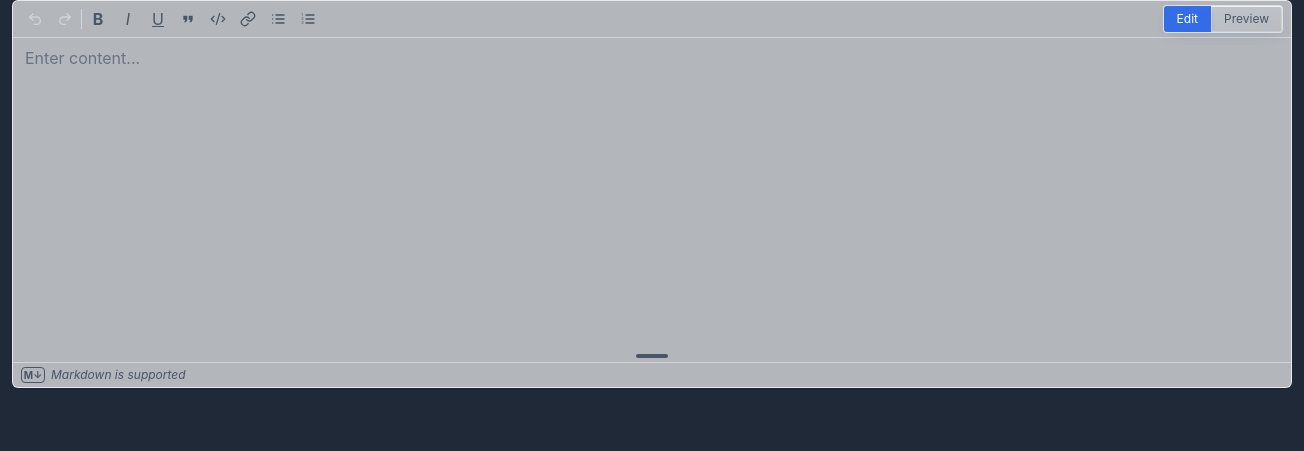
MarkdownEditorField › word link suggestions › surfaces multiple missed suggestions in sequence on blur, with progress
Type "`apple` `banana` " into the text box at x=652, y=194, box [13,38,1291,350]
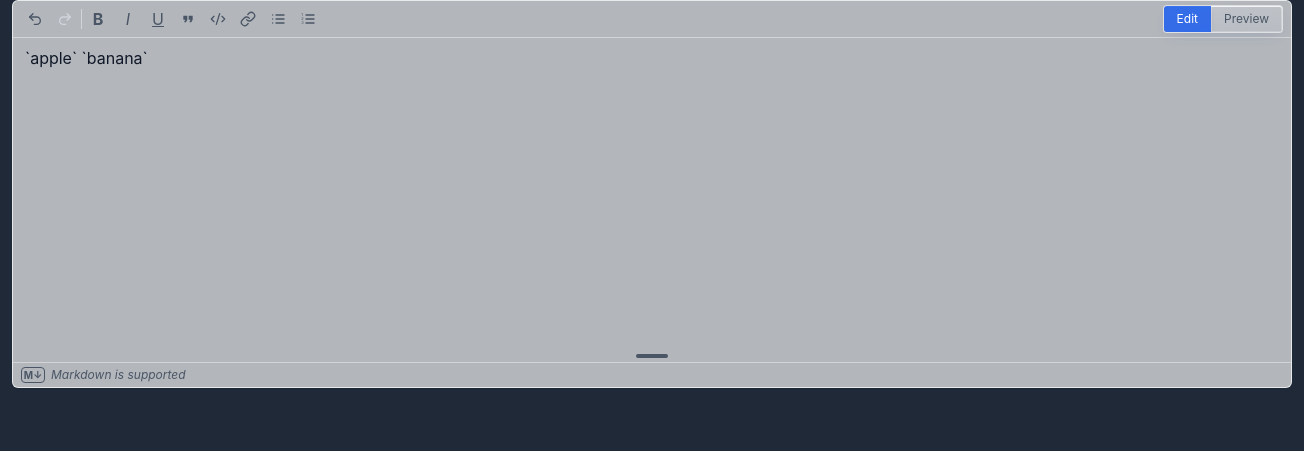
Check: the button "Add link" is not shown
Leave the text box
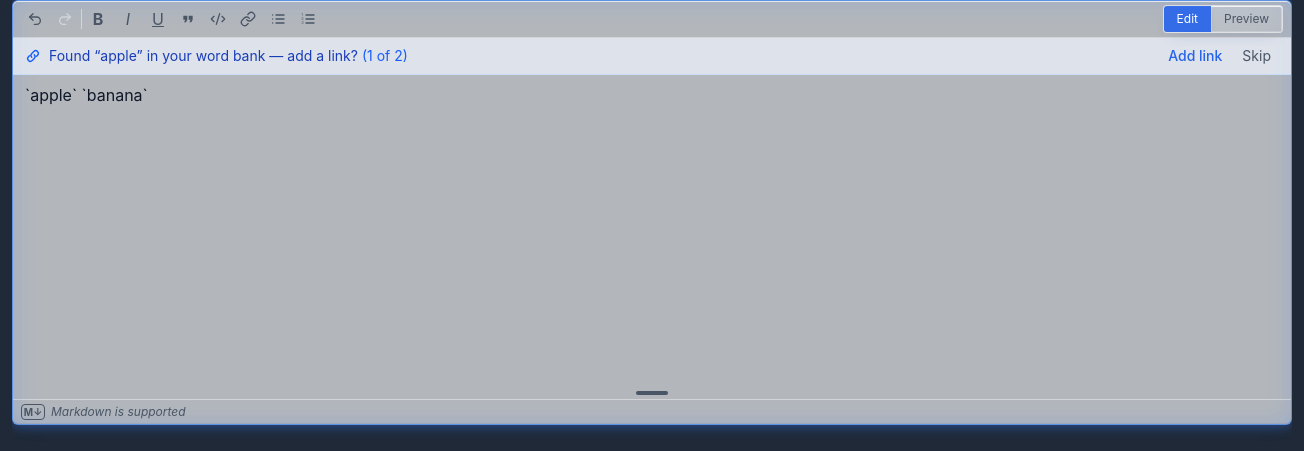
Check: the text "(1 of 2)" is shown, box [362,47,408,64]
Click the button "Add link" at x=1195, y=56, box [1160,44,1230,68]
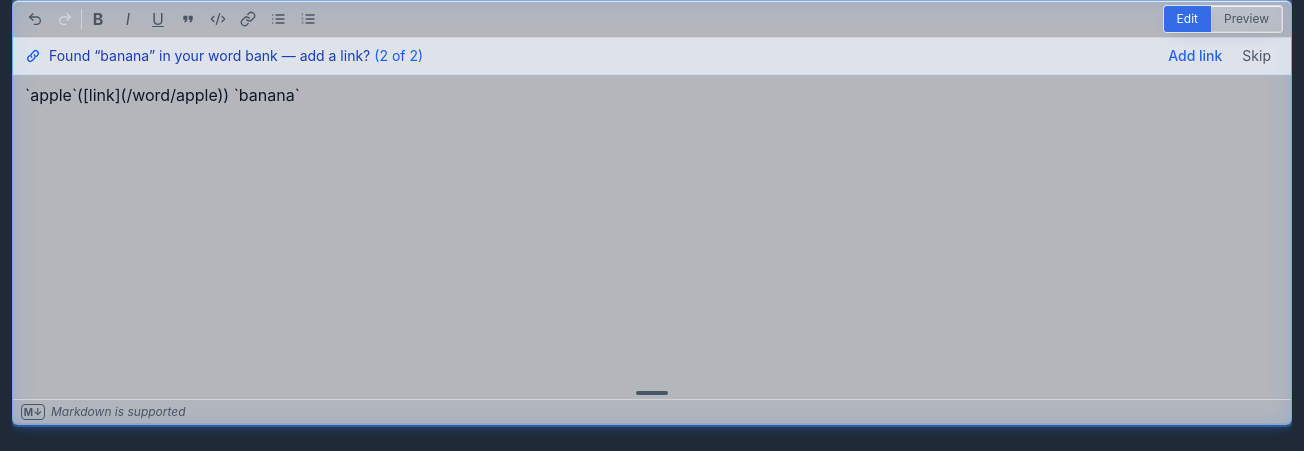
Check: the text "(2 of 2)" is shown, box [374,47,423,64]
Click the button "Add link" at x=1195, y=56, box [1160,44,1230,68]
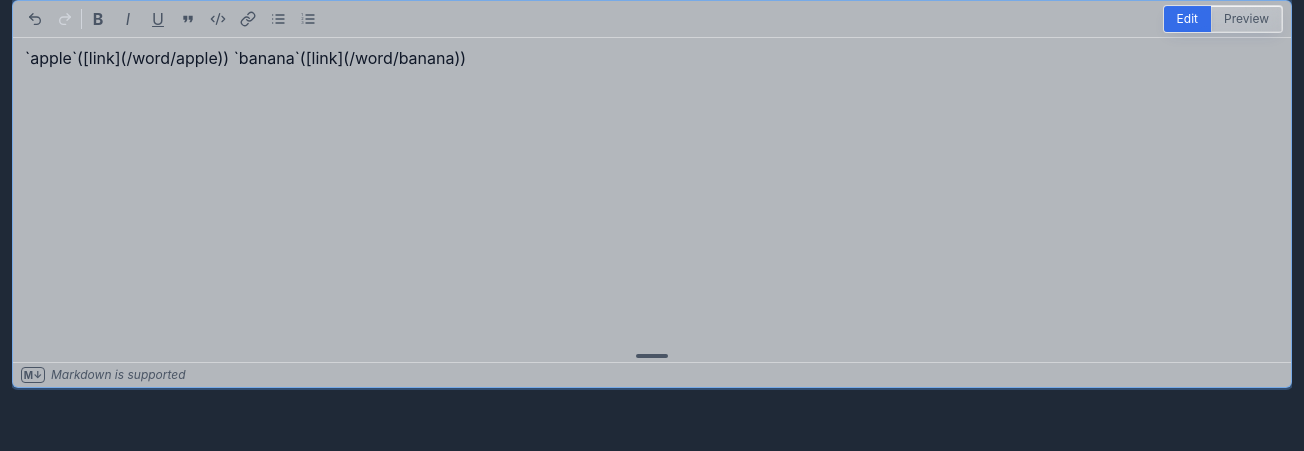
Check: the button "Add link" is gone
